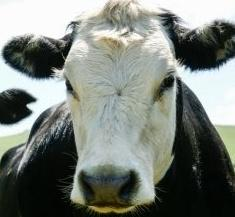muzzles: (65, 165, 155, 215)
